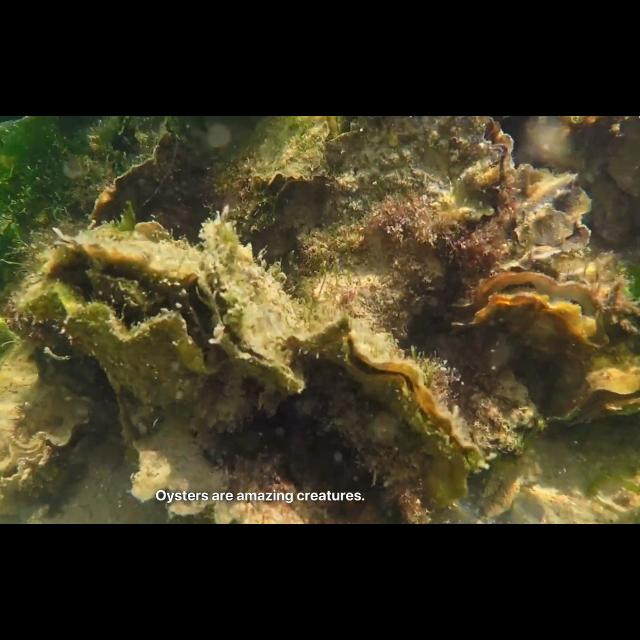Oyster-Closed: (88, 132, 188, 228)
Oyster-Open: (307, 116, 517, 340), (284, 314, 482, 512), (26, 230, 234, 412), (197, 216, 306, 398), (449, 270, 611, 360), (0, 382, 98, 498), (499, 164, 593, 270), (244, 120, 332, 200), (545, 366, 640, 429), (210, 163, 278, 239), (112, 392, 154, 466)
